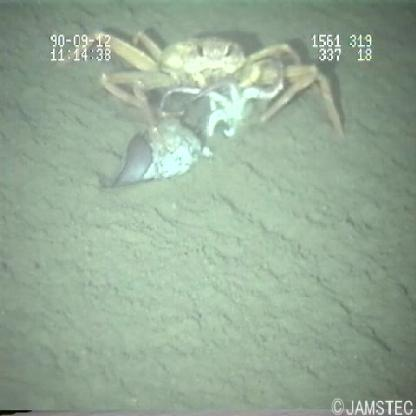Bio: (47, 25, 358, 193)
